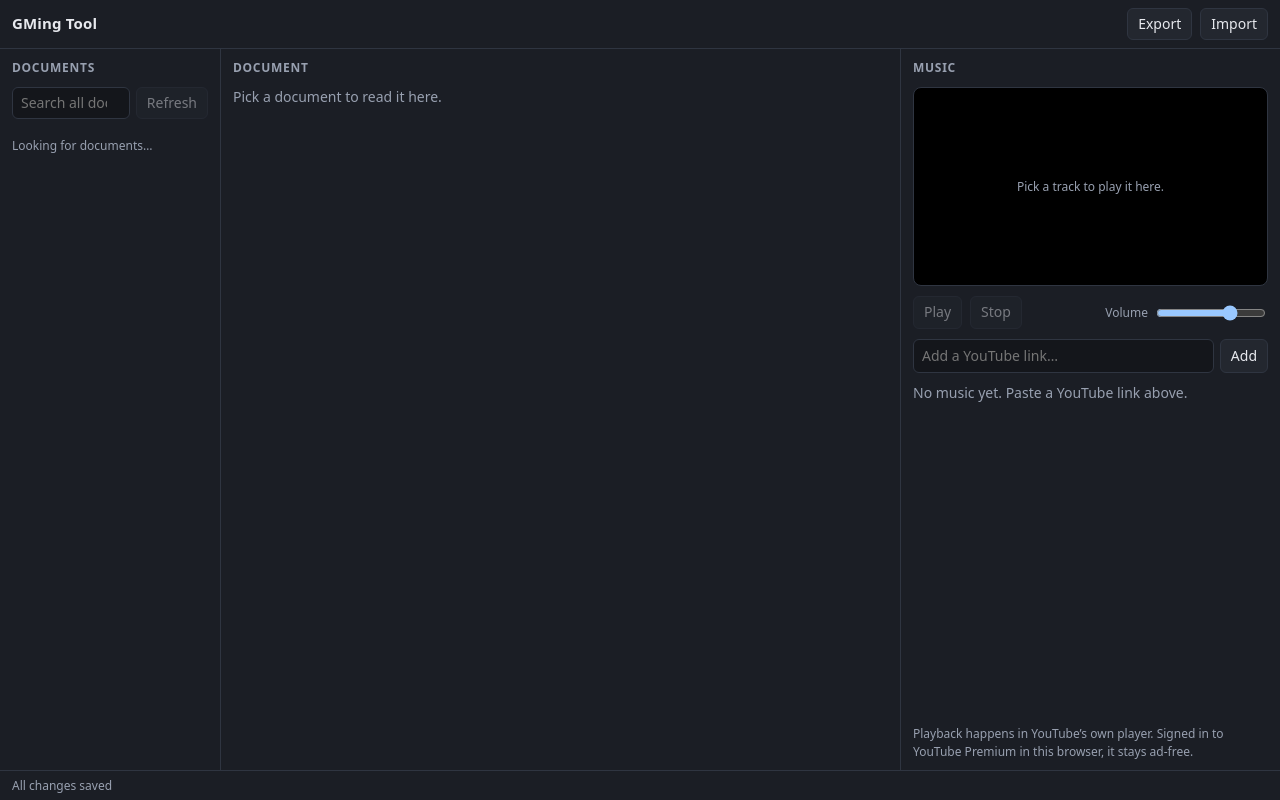
it: the GMing tool › refuses a link that is not YouTube
Step 1. Type "https://example.com/not-youtube" into the field labelled "YouTube link" → (1063,356), box [913, 339, 1214, 373]
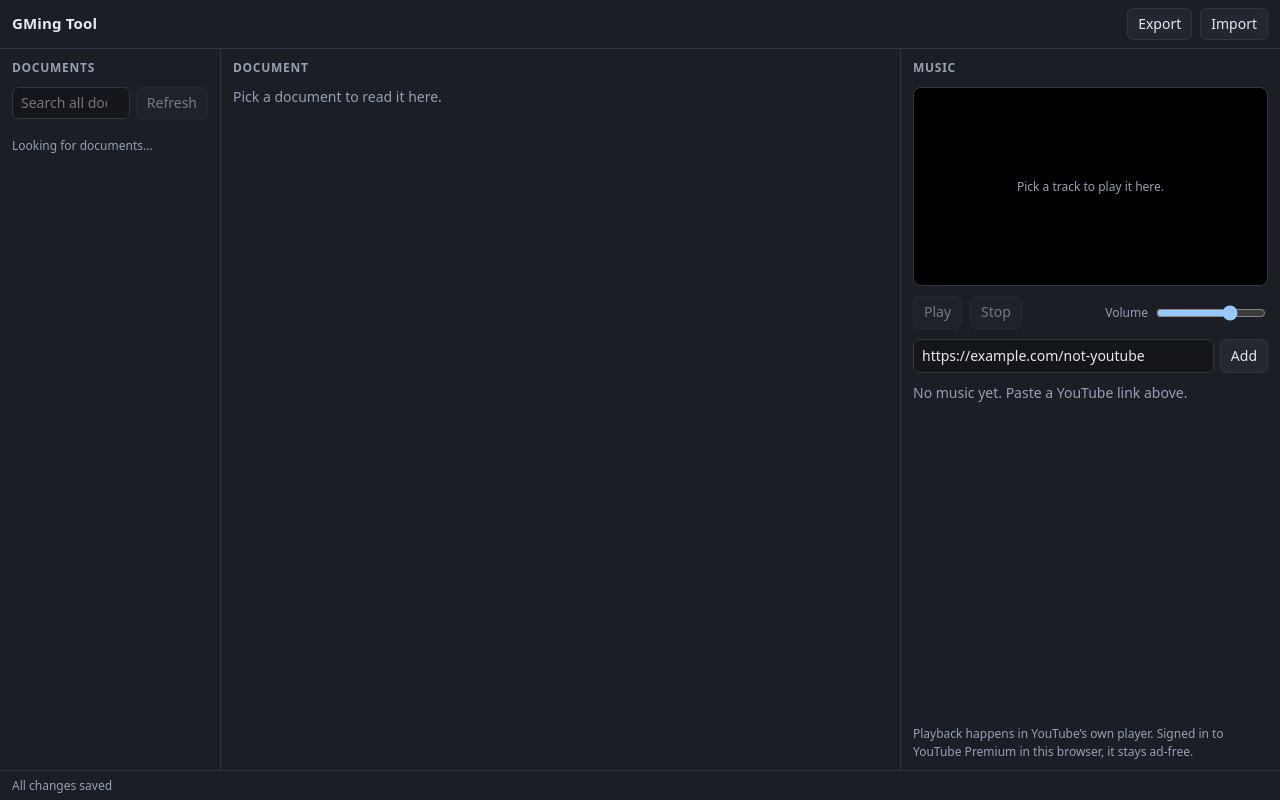
Step 2. Click the button "Add" → (1244,356), box [1220, 339, 1268, 373]
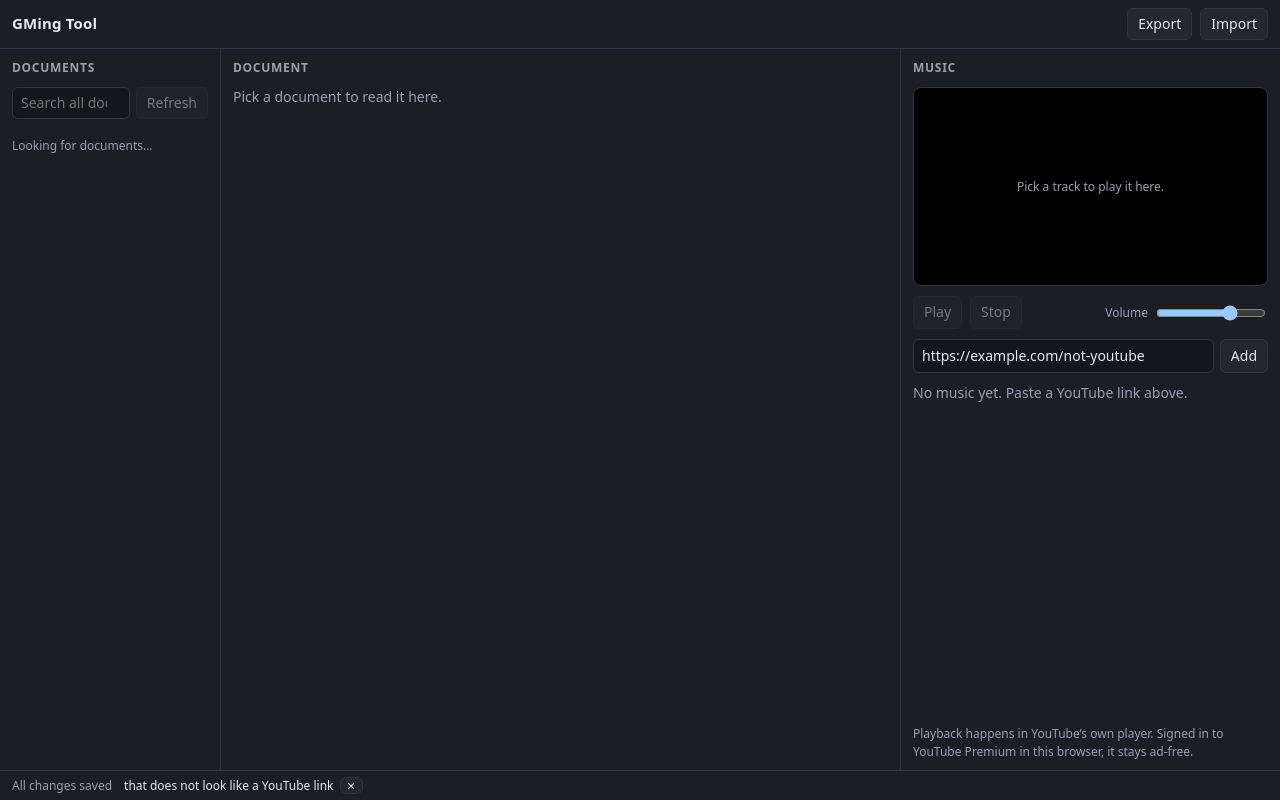
Now the message shows "that does not look like a YouTube link", box [124, 777, 334, 794]
